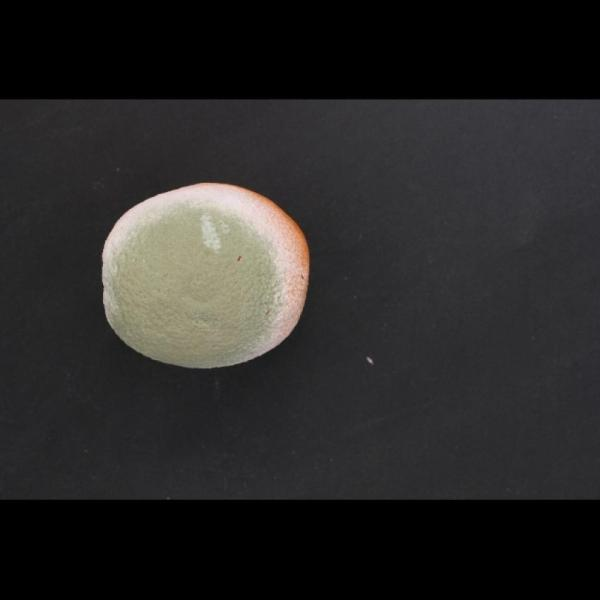Moho verde: (87, 164, 323, 372)
